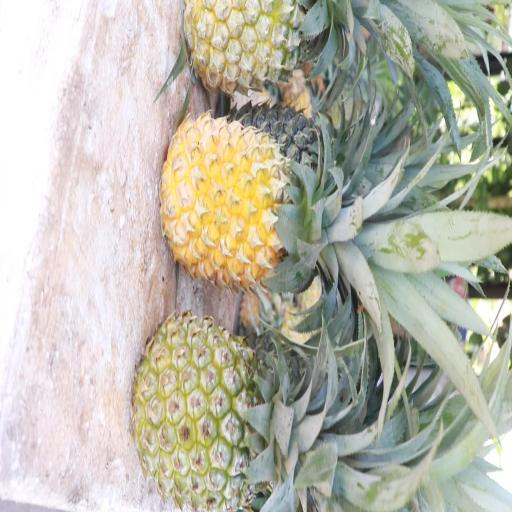------------------------------: (143, 322, 320, 507), (188, 0, 351, 105)
Pineapple - v8 v1: (165, 115, 341, 279)
